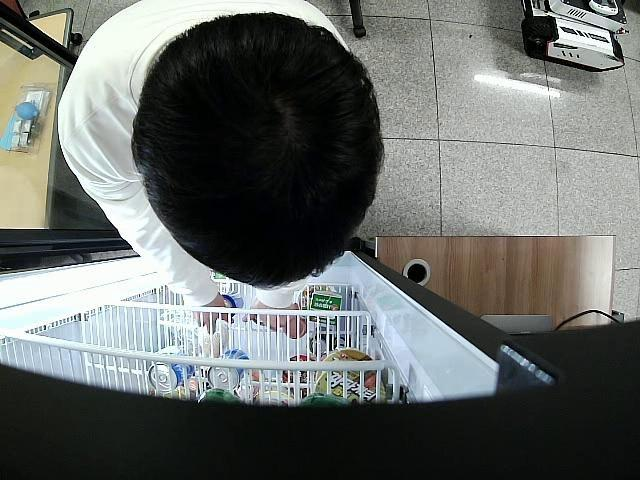13_pocariSweat: (220, 291, 244, 315)
